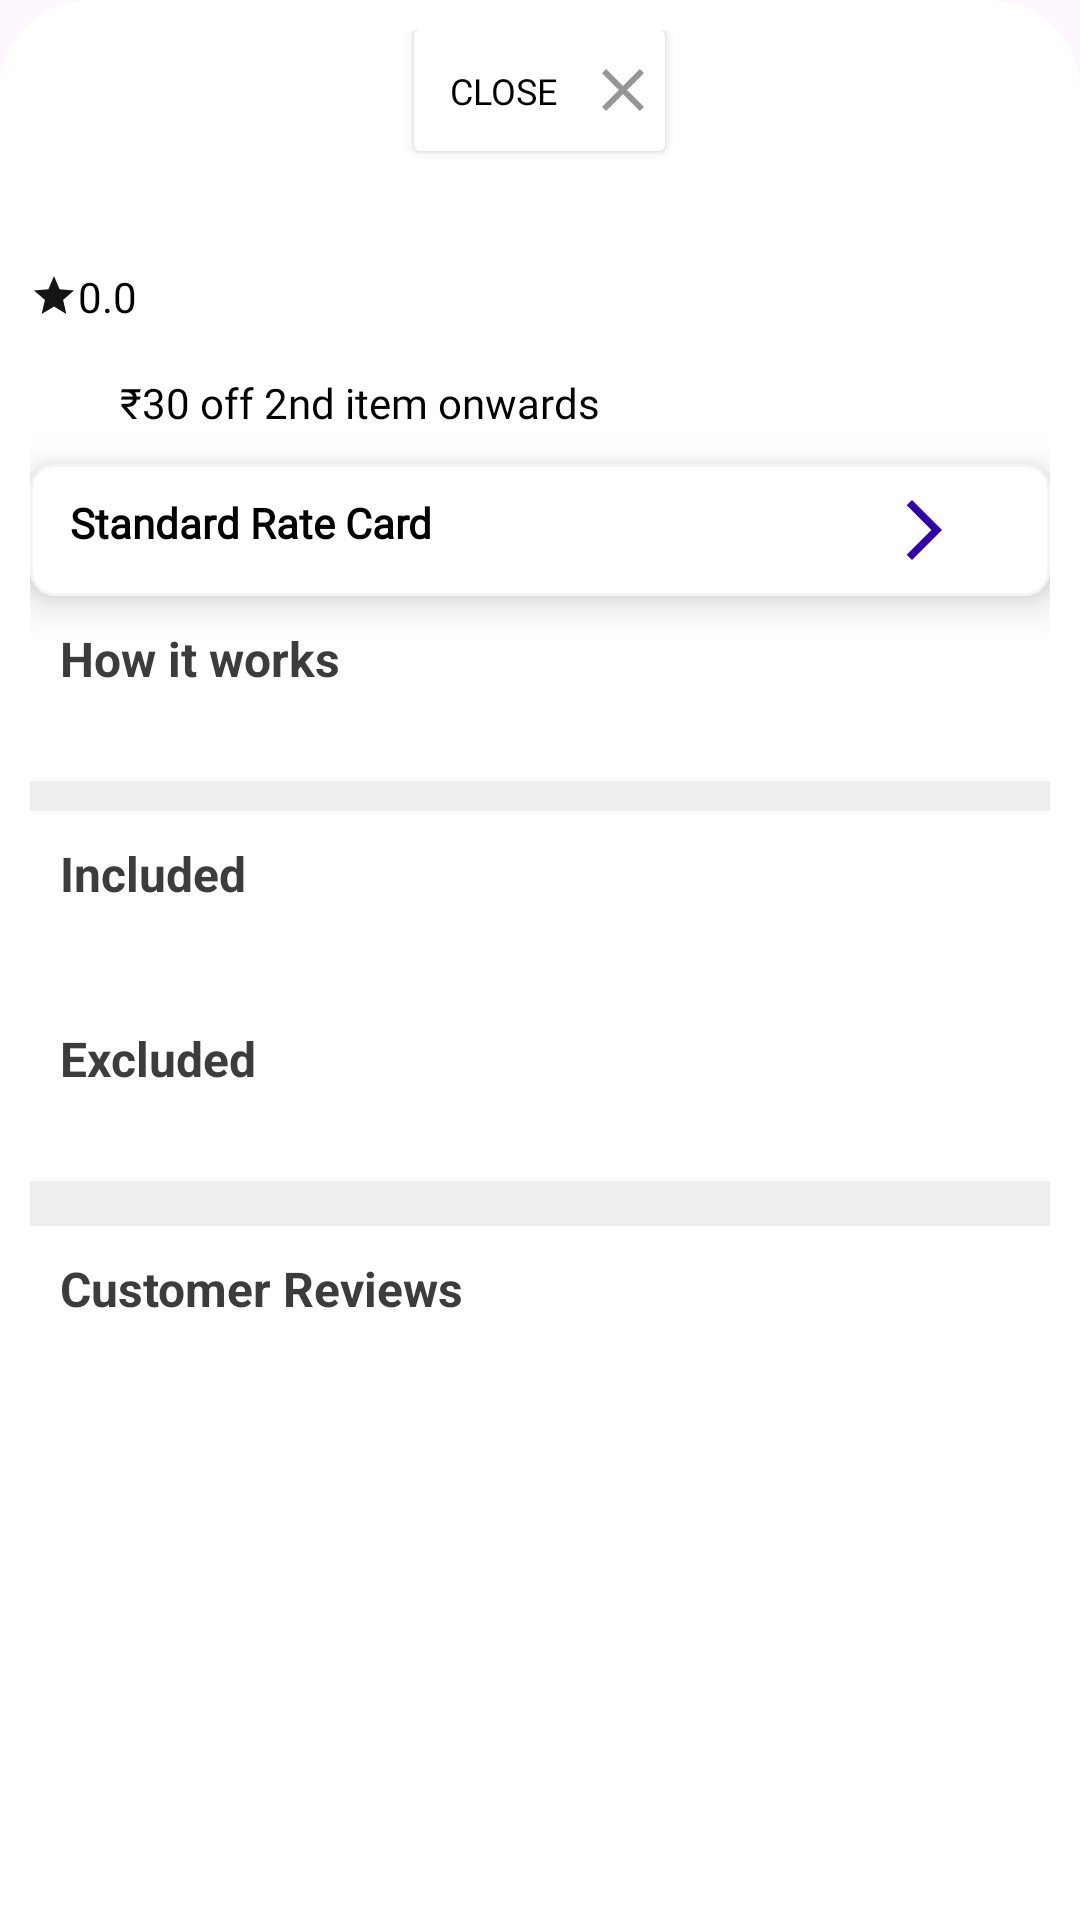

Icons on this 1080*1920 Android screen, each with the point to tap as [x,y]:
arrow: [924,530]
star rating: [54,295]
